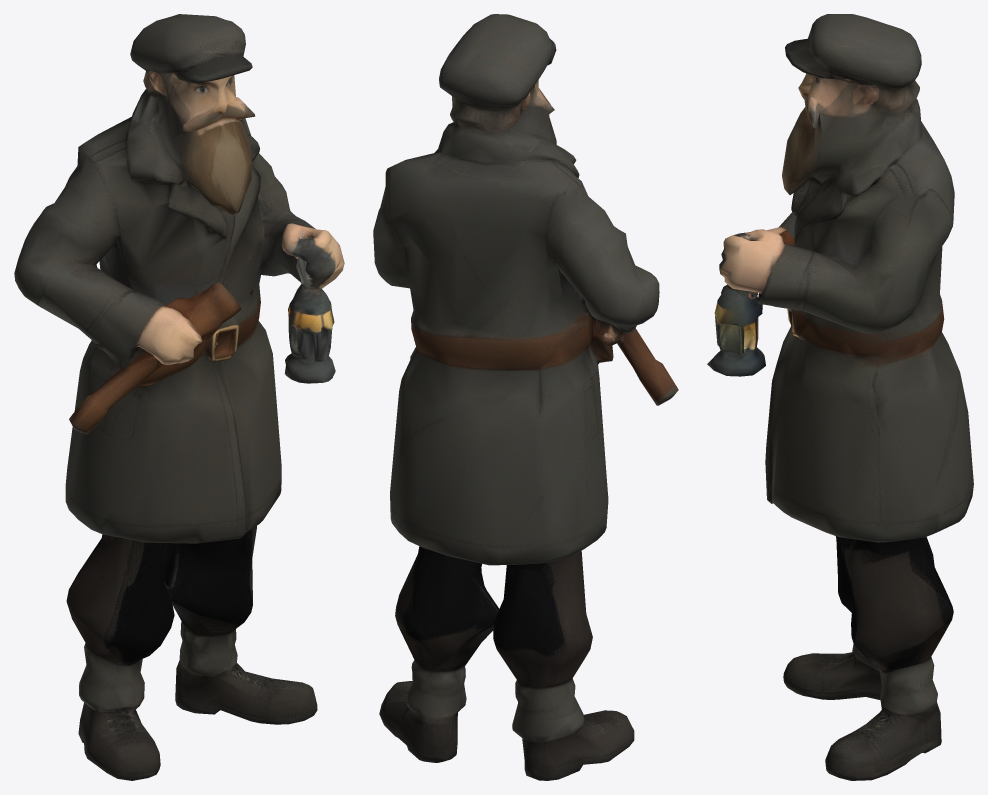
Rendered from npc_foreman.glb.
3 renders of one model, left to right at view 1: azimuth 30°, elevation 25°; view 2: azimuth 150°, elevation 25°; view 3: azimuth 270°, elevation 25°, orthographic.
Bounding box in the file's own units: 0.824 × 2 × 0.6836.
1 material, 1 textured.
